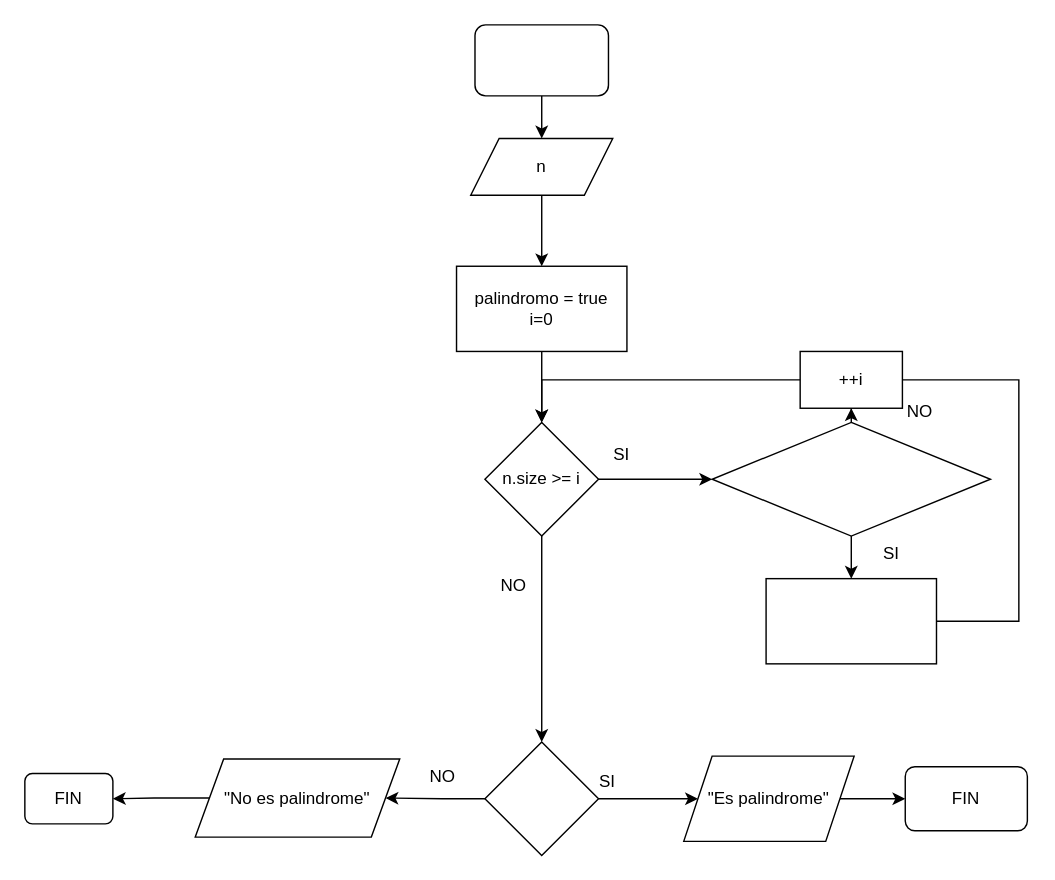
The diagram is 1055 pixels wide and 880 high, and some of its shapes have lost their labels. Each missing label, with the box of its shape:
INICIO: (474, 23, 608, 96)
n[i] != n[n.size -1-i]: (711, 421, 990, 536)
palindromo: (484, 741, 599, 856)
palindromo=false: (765, 577, 936, 664)
